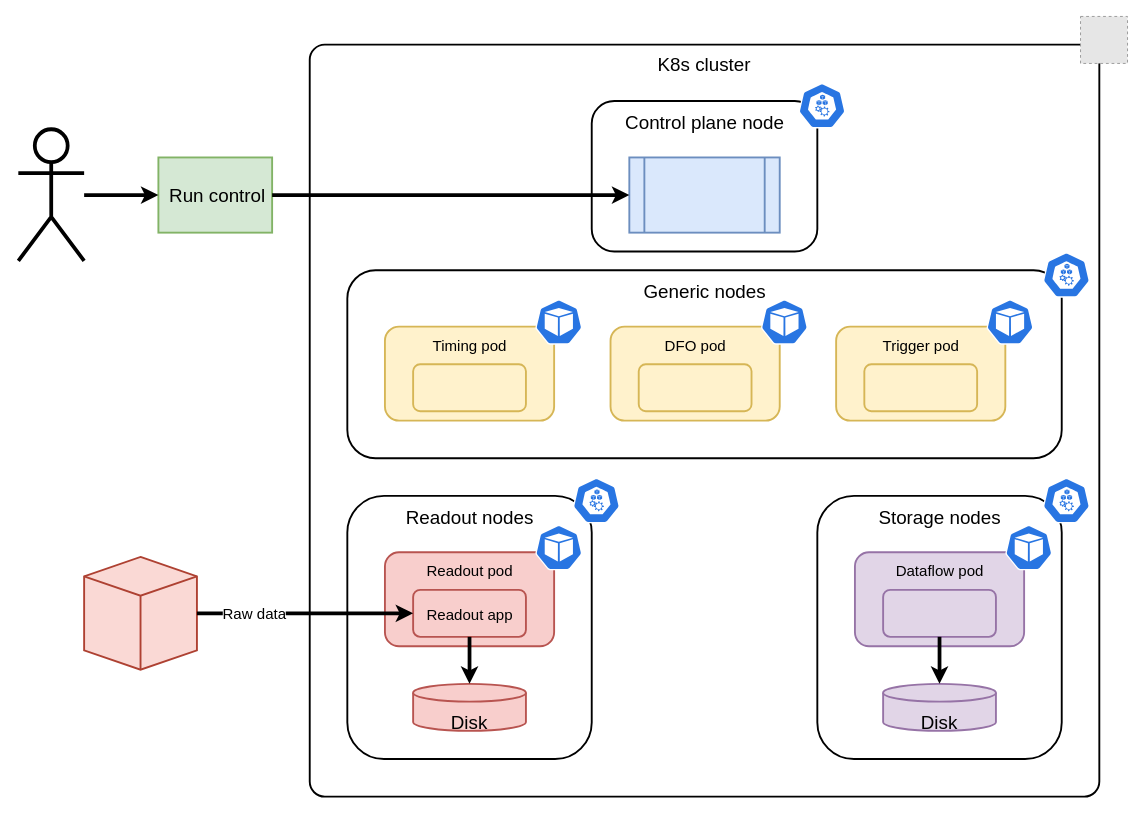
The diagram is 1144 pixels wide and 814 high, and some of its shapes have lost their labels. Grey dashed boxes stand in for pictures. Each missing label, with the centre of its shape:
"Dataflow app" goes at pixel 939 612.
"DFO app" goes at pixel 694 387.
"K8s control plane" goes at pixel 704 194.
"Timing app" goes at pixel 469 387.
"Trigger app" goes at pixel 920 387.
"WIB" goes at pixel 140 613.
